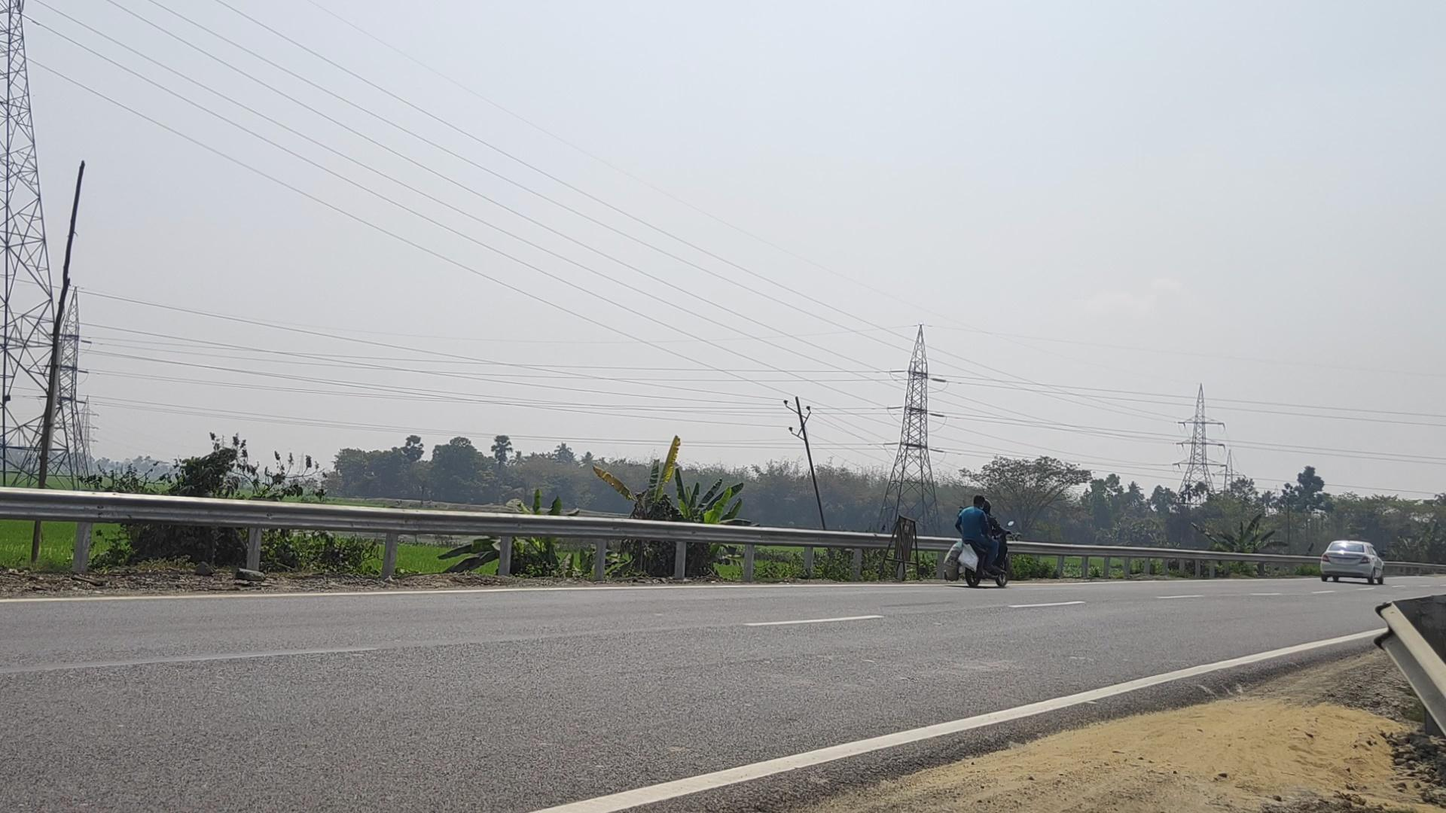bike: (943, 494, 1015, 587)
car: (1319, 540, 1385, 585)
